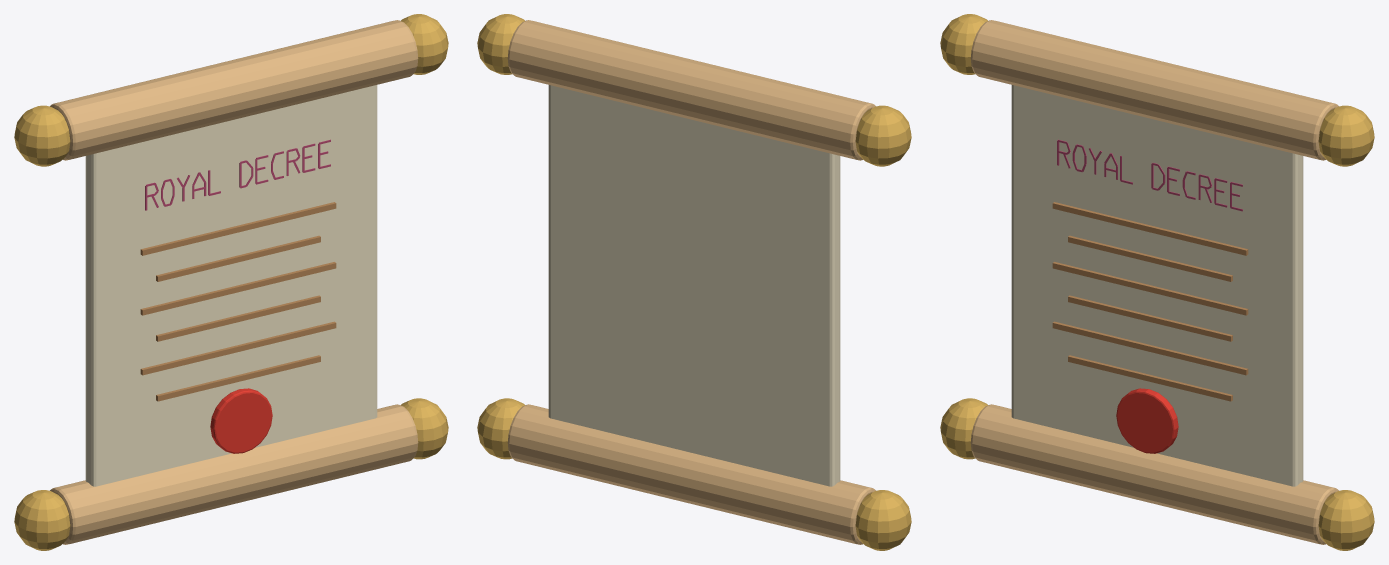
The model's file is P028_royal_scroll.glb.
3 renders of one model, left to right at view 1: azimuth 30°, elevation 25°; view 2: azimuth 150°, elevation 25°; view 3: azimuth 330°, elevation 25°, orthographic.
Parts seen in each view (by area): view 1: P028_parchment_001, P028_roller_005, P028_roller_002, P028_seal_015, P028_finial_006, P028_finial_003, P028_finial_004, P028_finial_007, P028_heading_008, P028_writing_009, P028_writing_013, P028_writing_011 (+3 smaller); view 2: P028_parchment_001, P028_roller_005, P028_roller_002, P028_finial_006, P028_finial_003, P028_finial_004, P028_finial_007; view 3: P028_parchment_001, P028_roller_005, P028_roller_002, P028_seal_015, P028_finial_007, P028_finial_004, P028_finial_003, P028_finial_006, P028_heading_008, P028_writing_009, P028_writing_013, P028_writing_011 (+3 smaller).
Boxes of the visible parts, box(x1,y1,x2,y2) form: P028_parchment_001: box(85, 85, 377, 486); P028_roller_005: box(50, 20, 418, 160); P028_roller_002: box(50, 404, 418, 544); P028_seal_015: box(210, 388, 272, 453); P028_finial_006: box(14, 105, 70, 166); P028_finial_003: box(14, 490, 70, 550); P028_finial_004: box(401, 398, 448, 459); P028_finial_007: box(401, 14, 448, 74); P028_heading_008: box(145, 139, 330, 210); P028_writing_009: box(140, 202, 336, 255); P028_writing_013: box(140, 321, 336, 375); P028_writing_011: box(140, 262, 336, 315); P028_parchment_001: box(548, 85, 840, 486); P028_roller_005: box(507, 20, 875, 160); P028_roller_002: box(507, 404, 875, 544); P028_finial_006: box(855, 105, 911, 166); P028_finial_003: box(855, 490, 911, 550); P028_finial_004: box(477, 398, 524, 459); P028_finial_007: box(477, 14, 524, 74); P028_parchment_001: box(1011, 85, 1303, 486); P028_roller_005: box(970, 20, 1338, 160); P028_roller_002: box(970, 404, 1338, 544); P028_seal_015: box(1116, 388, 1178, 453); P028_finial_007: box(1318, 105, 1374, 166); P028_finial_004: box(1318, 490, 1374, 550); P028_finial_003: box(940, 398, 987, 459); P028_finial_006: box(940, 14, 987, 74); P028_heading_008: box(1057, 139, 1242, 211); P028_writing_009: box(1052, 202, 1248, 255); P028_writing_013: box(1052, 321, 1248, 375); P028_writing_011: box(1052, 262, 1248, 315).
Size of the model in its own units: 0.418 by 0.412 by 0.052.
